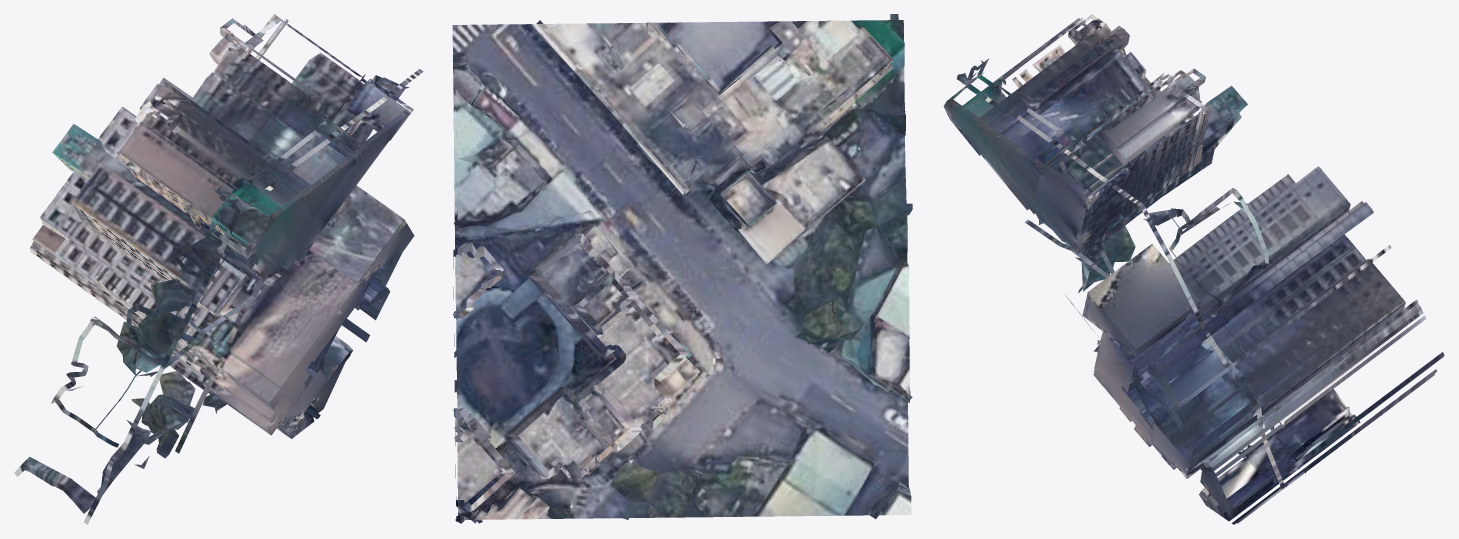
3 views of the same model, side by side, from view 1: azimuth 30°, elevation 25°; view 2: azimuth 150°, elevation 25°; view 3: azimuth 270°, elevation 25° (orthographic). The views are drawn at different scales.
Size of the model in its own units: 83.55 by 86.99 by 98.23.
Materials: 2 (2 with a texture image).
